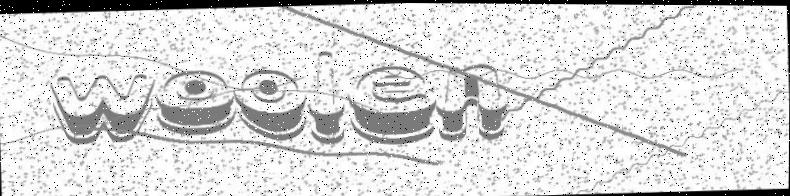e: (348, 58, 438, 147)
l: (309, 48, 348, 143)
n: (438, 59, 507, 139)
o: (232, 66, 310, 142), (157, 65, 237, 136)
w: (46, 68, 156, 148)
